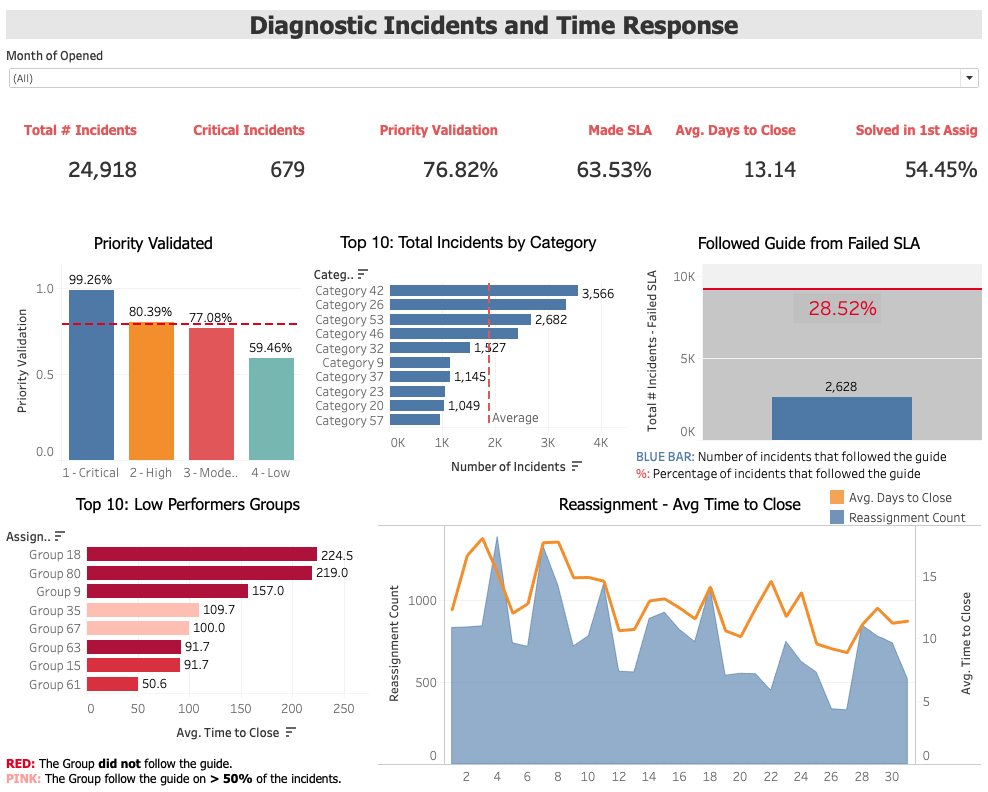

Layout of this report page (visuals, bound fields, positions):
{"tool":"tableau","page":{"name":"Diagnostic Dashboard","canvas":[1000,800],"ordinal":0},"visuals":[{"type":"title","box":[8,8,984,37]},{"type":"filter","title":"Incidents KPI","param":"[federated.0s5abdc1ddc7x819u7g3v1w1ixbz].[mn:Date:ok]","box":[8,45,984,52]},{"type":"worksheet","title":"Incidents KPI","mark":"Automatic","box":[8,116.4,143,78.1]},{"type":"worksheet","title":"Critical KPI","mark":"Automatic","box":[151,116.4,168,78.1]},{"type":"worksheet","title":"Priority KPI","mark":"Automatic","box":[319,116.4,193,78.1]},{"type":"worksheet","title":"SLA KPI","mark":"Automatic","box":[512,116.4,154,78.1]},{"type":"worksheet","title":"Avg Time KPI","mark":"Automatic","box":[666,116.4,144,78.1]},{"type":"worksheet","title":"Reassignment KPI","mark":"Automatic","box":[810,116.4,182,78.1]},{"type":"worksheet","title":"Priority Confirmation","mark":"Automatic","rows":["Calculation_49961876285231114"],"cols":["Priority"],"box":[8,227,303,260.8]},{"type":"worksheet","title":"Top Categories","mark":"Automatic","rows":["Category"],"cols":["Number of Records"],"box":[311,227,327,260.8]},{"type":"worksheet","title":"NO SLA - Follow Guide","mark":"Automatic","rows":["Knowledge"],"box":[638,227,354,260.8]},{"type":"worksheet","title":"% Follow Guide","mark":"Automatic","box":[799,295,88,30]},{"type":"worksheet","title":"Top Groups","mark":"Automatic","rows":["Assigned_Group"],"cols":["Calculation_49961876250066947"],"box":[8,487.8,372,304.2]},{"type":"worksheet","title":"Avg Time - Reassignment","mark":"Area","rows":["Reassignment_Count","Calculation_49961876250066947"],"cols":["Date"],"box":[380,487.8,612,304.2]},{"type":"legend","title":"Avg Time - Reassignment","param":"[federated.0s5abdc1ddc7x819u7g3v1w1ixbz].[:Measure Names]","box":[833,489,161,38]}]}

Visuals, with their boxes in screenshot pixels (x1, y1, x2, y2), scaled from the page's 1000x800 canvas onto the 988x792 screenshot:
title: <box>8,8,980,45</box>
"Incidents KPI" filter: <box>8,45,980,96</box>
"Incidents KPI" worksheet: <box>8,115,149,193</box>
"Critical KPI" worksheet: <box>149,115,315,193</box>
"Priority KPI" worksheet: <box>315,115,506,193</box>
"SLA KPI" worksheet: <box>506,115,658,193</box>
"Avg Time KPI" worksheet: <box>658,115,800,193</box>
"Reassignment KPI" worksheet: <box>800,115,980,193</box>
"Priority Confirmation" worksheet: <box>8,225,307,483</box>
"Top Categories" worksheet: <box>307,225,630,483</box>
"NO SLA - Follow Guide" worksheet: <box>630,225,980,483</box>
"% Follow Guide" worksheet: <box>789,292,876,322</box>
"Top Groups" worksheet: <box>8,483,375,784</box>
"Avg Time - Reassignment" worksheet (Area marks): <box>375,483,980,784</box>
"Avg Time - Reassignment" legend: <box>823,484,982,522</box>
